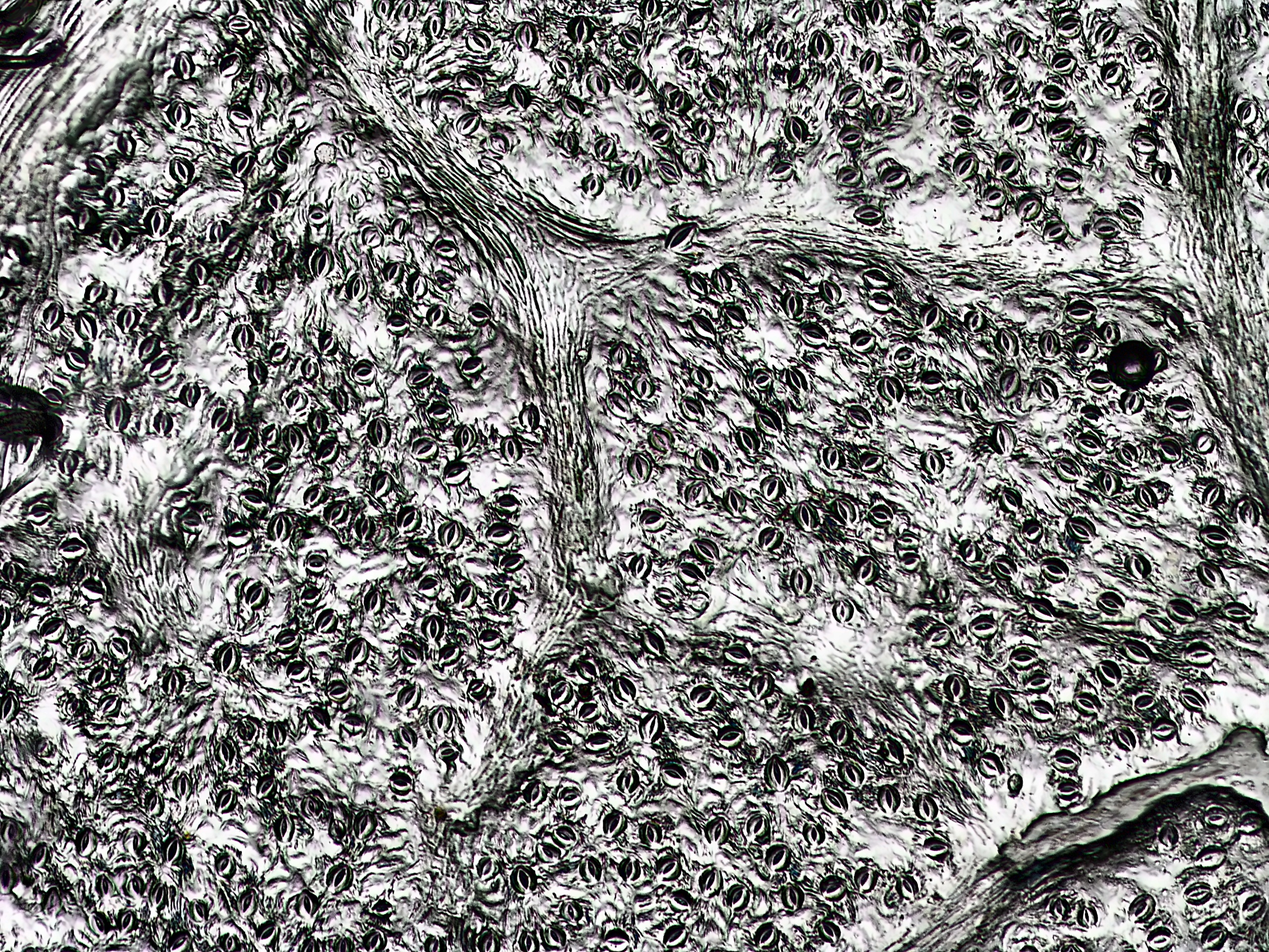stomata: (664, 221, 698, 249), (106, 396, 131, 433), (214, 643, 241, 677), (994, 422, 1018, 460), (768, 754, 790, 794), (1025, 598, 1060, 623), (1062, 517, 1097, 542), (1233, 495, 1261, 526), (1184, 643, 1218, 668), (1126, 892, 1155, 921), (145, 207, 172, 238), (809, 29, 836, 60), (1145, 925, 1175, 952), (793, 502, 820, 532), (1196, 560, 1223, 590), (693, 536, 722, 563), (749, 671, 775, 701), (56, 536, 87, 561), (906, 37, 931, 68), (877, 782, 901, 814), (820, 442, 844, 474), (240, 489, 273, 512), (697, 864, 720, 897), (1195, 846, 1228, 869), (921, 448, 948, 476), (945, 674, 971, 703), (639, 712, 664, 742), (353, 808, 377, 839), (705, 814, 729, 845), (1053, 458, 1084, 482), (994, 327, 1018, 358), (547, 678, 574, 705), (952, 154, 979, 181), (647, 426, 675, 452), (923, 623, 951, 649), (990, 686, 1012, 719), (785, 116, 810, 145), (613, 674, 638, 703), (914, 793, 939, 822), (1069, 336, 1098, 361), (627, 452, 651, 482), (545, 727, 575, 751), (717, 724, 747, 748), (1074, 432, 1104, 456), (1166, 599, 1197, 622), (345, 637, 370, 665), (273, 628, 301, 653), (396, 683, 424, 708), (689, 314, 717, 339), (834, 497, 859, 525), (1124, 554, 1149, 582), (944, 25, 972, 50), (349, 360, 378, 384), (327, 863, 351, 892), (1039, 558, 1068, 582), (370, 417, 391, 450), (569, 16, 592, 46), (1096, 592, 1126, 615), (1073, 135, 1096, 165), (1054, 168, 1084, 191), (1067, 300, 1097, 323), (454, 422, 476, 453), (1182, 882, 1213, 904), (606, 392, 632, 418), (691, 684, 717, 710), (443, 460, 470, 485), (640, 628, 665, 655), (1016, 194, 1041, 221), (167, 99, 191, 127), (170, 157, 194, 185), (118, 305, 142, 333), (970, 616, 998, 640), (1164, 300, 1185, 332), (766, 842, 789, 871), (1176, 688, 1205, 711), (1220, 604, 1255, 623), (173, 50, 195, 80), (106, 224, 128, 254), (76, 312, 98, 342), (610, 341, 632, 371), (855, 555, 877, 585), (1039, 329, 1060, 360), (27, 500, 53, 525), (324, 678, 350, 703), (656, 159, 682, 184), (679, 396, 705, 421), (754, 409, 780, 434), (817, 919, 842, 945), (1201, 924, 1226, 950), (802, 321, 829, 345), (823, 787, 847, 814), (1237, 809, 1264, 833), (1120, 389, 1144, 416), (42, 885, 61, 919), (515, 21, 538, 49), (511, 866, 534, 894), (1053, 749, 1081, 772), (44, 301, 64, 333), (676, 562, 705, 584), (1165, 397, 1194, 419), (140, 333, 161, 363), (162, 668, 183, 698), (622, 162, 643, 192), (735, 426, 756, 456), (585, 732, 615, 753), (724, 486, 745, 516), (793, 704, 814, 734), (1054, 16, 1084, 37), (921, 302, 942, 332), (0, 690, 19, 723), (412, 437, 437, 462), (307, 706, 332, 731), (687, 7, 712, 32), (746, 811, 771, 836), (1042, 84, 1067, 109), (1088, 368, 1113, 393), (149, 353, 175, 377), (574, 656, 600, 680), (755, 922, 779, 948), (1203, 804, 1229, 828), (831, 720, 855, 746), (991, 556, 1017, 580), (997, 74, 1021, 100), (996, 154, 1020, 180), (876, 376, 902, 400), (587, 71, 610, 98), (180, 382, 203, 409), (226, 525, 253, 548), (602, 809, 625, 836), (655, 858, 682, 881), (841, 760, 864, 787), (1096, 469, 1119, 496), (1006, 30, 1029, 57), (232, 325, 254, 353), (432, 705, 454, 733), (620, 856, 642, 884), (1010, 647, 1038, 669), (1123, 642, 1151, 664), (1238, 143, 1260, 171), (581, 855, 602, 884), (855, 865, 876, 894), (867, 291, 896, 312), (999, 369, 1020, 398), (332, 0, 356, 25), (40, 617, 65, 641), (406, 365, 431, 389), (270, 513, 290, 543), (365, 588, 385, 618), (593, 136, 617, 161), (581, 172, 605, 197), (802, 819, 826, 844), (869, 503, 894, 527), (1200, 483, 1224, 508), (855, 205, 885, 225), (1119, 200, 1144, 224), (959, 385, 979, 415), (326, 500, 349, 526), (488, 523, 514, 546), (316, 609, 339, 635), (604, 929, 630, 952), (660, 763, 686, 786), (640, 509, 666, 532), (880, 738, 903, 764), (1111, 725, 1134, 751), (1134, 485, 1157, 511), (851, 331, 877, 354), (920, 372, 946, 395), (177, 296, 199, 323), (152, 408, 174, 435), (287, 387, 309, 414), (728, 883, 750, 910), (1093, 217, 1120, 239), (844, 405, 871, 427), (296, 890, 317, 918), (525, 777, 546, 805), (1047, 119, 1075, 140), (520, 403, 540, 432), (423, 613, 443, 642), (863, 268, 892, 288), (107, 636, 131, 660), (955, 80, 979, 104), (467, 302, 492, 325), (317, 440, 340, 465), (32, 655, 55, 680), (560, 897, 583, 922), (704, 78, 727, 103), (694, 447, 717, 472), (686, 481, 709, 506), (959, 537, 982, 562), (227, 105, 253, 127), (231, 152, 253, 178), (426, 301, 448, 327), (624, 68, 646, 94), (923, 836, 949, 858), (1096, 21, 1118, 47), (1232, 15, 1254, 41), (1190, 430, 1216, 452), (1240, 100, 1259, 130), (6, 237, 27, 264), (442, 519, 463, 546), (75, 828, 96, 855), (556, 786, 583, 807), (783, 291, 803, 319), (313, 247, 331, 278), (164, 834, 182, 865), (467, 29, 490, 53), (406, 542, 429, 566), (418, 574, 442, 597), (398, 642, 422, 665), (243, 584, 267, 607), (678, 47, 702, 70), (759, 526, 783, 549), (980, 753, 1003, 777), (1011, 110, 1035, 133), (983, 186, 1007, 209), (144, 790, 163, 819), (723, 644, 752, 663), (1199, 528, 1228, 547), (562, 95, 584, 120), (455, 583, 477, 608), (640, 820, 662, 845), (723, 305, 748, 327), (820, 279, 842, 304), (632, 374, 654, 399), (785, 365, 807, 390), (1160, 824, 1182, 849), (1075, 693, 1100, 715), (838, 87, 863, 109), (1052, 53, 1077, 75), (618, 768, 639, 794), (1245, 893, 1266, 919), (1159, 436, 1180, 462), (215, 738, 235, 765), (636, 0, 663, 20), (785, 882, 803, 912), (791, 568, 811, 595), (1151, 719, 1178, 739), (1130, 132, 1157, 152), (502, 436, 521, 464), (237, 890, 256, 918), (714, 267, 733, 295), (318, 333, 341, 356), (665, 924, 688, 947), (682, 150, 705, 173), (822, 876, 845, 899), (1102, 62, 1125, 85), (85, 280, 107, 304), (286, 660, 310, 682), (168, 930, 192, 952), (760, 475, 782, 499), (831, 598, 853, 622), (1147, 87, 1169, 111), (478, 155, 503, 176), (398, 506, 419, 531), (1097, 660, 1118, 685), (838, 127, 863, 148), (426, 14, 446, 40), (247, 359, 267, 385), (216, 789, 236, 815), (257, 774, 277, 800), (125, 829, 145, 855), (632, 552, 652, 578), (871, 103, 891, 129), (1102, 244, 1128, 264), (118, 130, 137, 157), (409, 273, 428, 300), (331, 387, 350, 414), (275, 814, 294, 841), (898, 875, 917, 902), (860, 454, 887, 473), (0, 863, 16, 895), (251, 71, 268, 101), (480, 627, 502, 650), (390, 771, 412, 794), (649, 122, 671, 145), (903, 3, 926, 25), (1117, 444, 1139, 467), (458, 69, 482, 90), (210, 407, 231, 431), (373, 472, 391, 500), (438, 643, 459, 667), (236, 715, 257, 739), (692, 364, 713, 388), (1044, 220, 1068, 241), (894, 347, 918, 368), (219, 52, 239, 77), (263, 456, 288, 476), (495, 493, 520, 513), (494, 587, 514, 612), (694, 117, 714, 142), (882, 169, 907, 189), (154, 280, 173, 306), (1, 819, 20, 845), (349, 272, 366, 301), (59, 449, 77, 476), (267, 720, 285, 747), (869, 0, 887, 27), (552, 56, 574, 78), (387, 313, 409, 335), (182, 512, 204, 534), (72, 638, 94, 660), (751, 368, 773, 390), (949, 719, 971, 741), (999, 489, 1021, 511), (65, 348, 88, 369), (190, 261, 211, 284), (429, 402, 452, 423), (305, 553, 328, 574), (363, 931, 386, 952), (668, 890, 691, 911), (1038, 378, 1059, 401), (435, 240, 459, 260), (269, 340, 289, 364), (303, 484, 323, 508), (98, 749, 118, 773), (176, 773, 192, 803), (214, 853, 234, 877), (436, 741, 460, 761), (619, 27, 643, 47), (770, 161, 794, 181), (687, 592, 711, 612), (508, 84, 527, 109), (88, 664, 107, 689), (96, 874, 115, 899), (1030, 701, 1055, 720), (777, 36, 796, 61), (846, 3, 865, 28), (1101, 320, 1120, 345), (301, 356, 319, 382), (489, 132, 510, 154), (81, 578, 103, 599), (502, 554, 524, 575), (538, 842, 560, 863), (362, 227, 385, 247), (462, 356, 485, 376), (671, 90, 691, 113), (359, 514, 376, 541), (397, 0, 416, 24), (309, 410, 328, 434), (189, 899, 208, 923), (89, 910, 108, 934), (342, 714, 366, 733), (398, 724, 417, 748), (1056, 779, 1080, 798), (860, 51, 879, 75), (965, 309, 984, 333), (1080, 406, 1104, 425), (1051, 895, 1069, 920), (151, 882, 167, 910), (31, 843, 48, 869), (457, 114, 478, 135), (301, 795, 322, 816), (440, 94, 462, 114), (887, 79, 909, 99), (256, 273, 275, 296), (547, 925, 566, 948), (578, 702, 601, 721), (227, 15, 251, 33), (562, 131, 580, 155), (76, 206, 94, 230), (273, 238, 291, 262), (150, 745, 168, 769), (126, 873, 144, 897), (118, 910, 136, 934), (328, 817, 346, 841), (1079, 904, 1097, 928), (897, 531, 921, 549), (1026, 674, 1050, 692), (1153, 161, 1170, 186), (301, 585, 322, 605), (257, 923, 277, 944), (655, 587, 676, 607), (384, 262, 403, 284), (99, 693, 118, 715), (1021, 520, 1043, 539), (285, 425, 301, 451), (234, 430, 252, 453), (261, 424, 279, 447), (554, 825, 577, 843), (790, 66, 808, 89), (839, 167, 862, 185), (951, 115, 974, 133), (1152, 348, 1170, 371), (86, 155, 107, 174), (64, 695, 83, 716), (520, 930, 538, 952), (689, 272, 707, 294), (265, 188, 282, 211), (32, 584, 52, 603), (1136, 41, 1156, 60), (225, 239, 243, 260), (480, 931, 498, 952), (391, 39, 408, 61), (371, 901, 393, 918), (476, 857, 493, 879), (1134, 693, 1157, 709), (107, 186, 124, 207), (278, 72, 294, 94), (435, 272, 454, 290), (902, 554, 921, 572), (42, 388, 62, 404), (211, 220, 227, 240), (468, 677, 484, 697), (373, 0, 391, 17), (425, 936, 444, 952), (275, 146, 290, 166), (1257, 166, 1269, 191), (393, 219, 407, 240), (5, 562, 19, 583), (463, 0, 487, 12), (308, 207, 326, 223), (338, 134, 351, 156), (0, 604, 10, 629), (301, 938, 318, 952), (334, 939, 352, 952), (224, 935, 237, 952)
